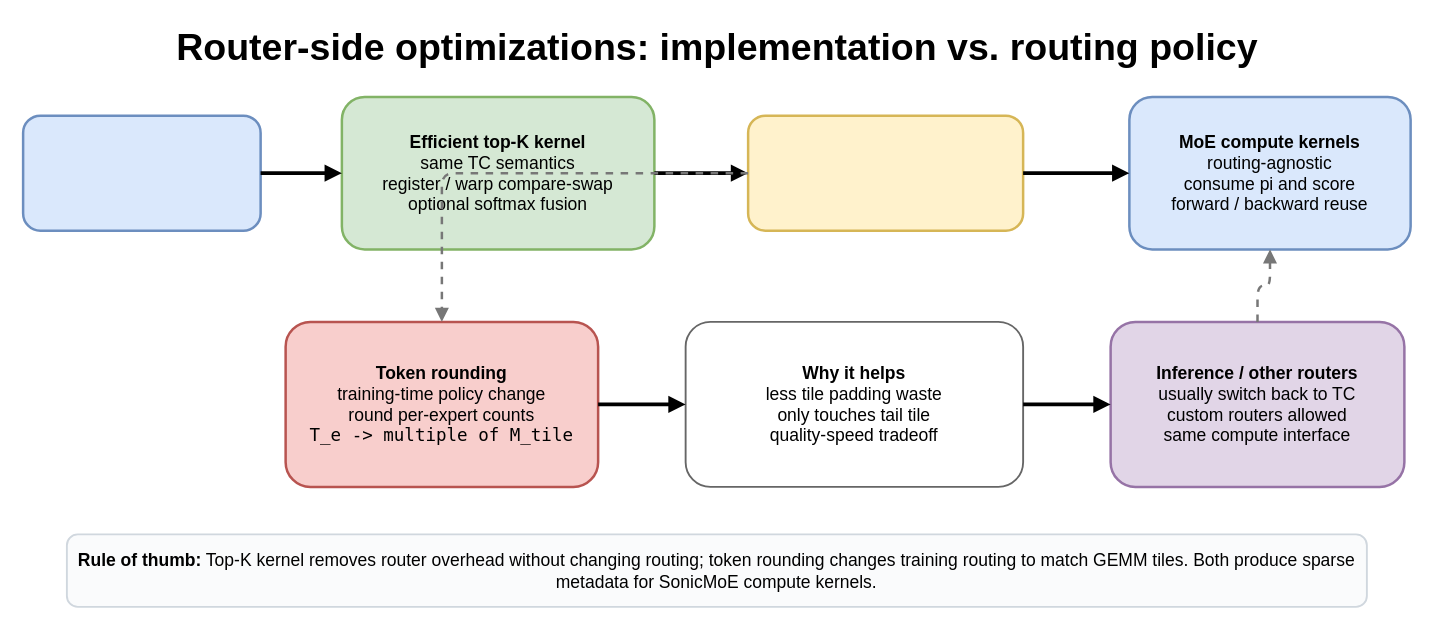
The diagram is 1433 pixels wide and 629 high, and some of its shapes have lost their labels. The shapes that lost their labels are listed below. From the top down, each one's box as (x1, y1, x2, y2) in pixels, then its label:
(21, 114, 261, 231): Router logits S[t, 0:E] dense scores per token
(746, 114, 1024, 231): TC top-K metadata pi[t,k], score[t,k] baseline routing result
